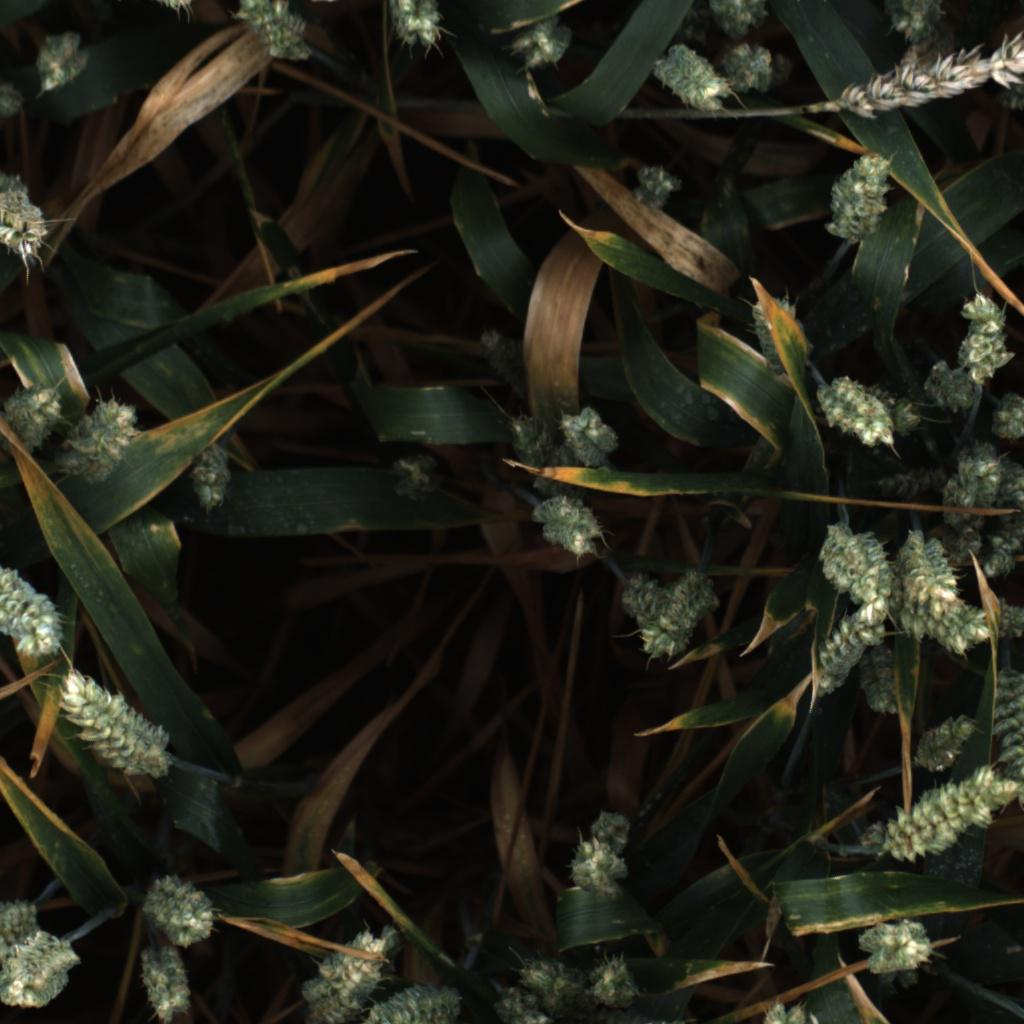0-0: (830, 33, 1024, 126), (855, 753, 1016, 864), (51, 667, 172, 781), (300, 931, 403, 1024), (804, 595, 889, 703), (731, 277, 815, 377), (805, 369, 902, 453), (0, 928, 87, 1017), (60, 393, 142, 487), (850, 902, 941, 983), (820, 151, 896, 247), (0, 553, 68, 659), (816, 514, 891, 602), (955, 285, 1023, 382), (527, 490, 609, 566), (142, 871, 224, 944), (890, 532, 961, 616), (651, 41, 731, 114), (620, 572, 683, 664), (897, 602, 997, 654), (0, 171, 54, 267), (494, 404, 557, 483), (233, 0, 310, 64), (130, 946, 193, 1024), (25, 25, 95, 95), (991, 665, 1024, 813), (949, 438, 1004, 526), (504, 11, 574, 80), (561, 836, 631, 903), (910, 711, 981, 776), (0, 380, 64, 449), (353, 985, 465, 1024), (517, 946, 587, 1008), (472, 320, 528, 396), (871, 379, 936, 444), (555, 402, 624, 462), (186, 445, 239, 521), (667, 568, 721, 640), (388, 446, 450, 507), (585, 949, 648, 1009), (919, 356, 979, 418), (380, 0, 447, 55), (879, 0, 951, 50), (717, 40, 778, 99), (858, 641, 901, 723), (626, 156, 687, 212), (878, 457, 948, 505), (938, 517, 989, 576), (0, 887, 44, 954), (700, 0, 770, 39), (584, 803, 638, 851), (982, 389, 1024, 448), (991, 451, 1024, 523), (494, 988, 559, 1024), (984, 527, 1024, 584), (987, 587, 1024, 648)
